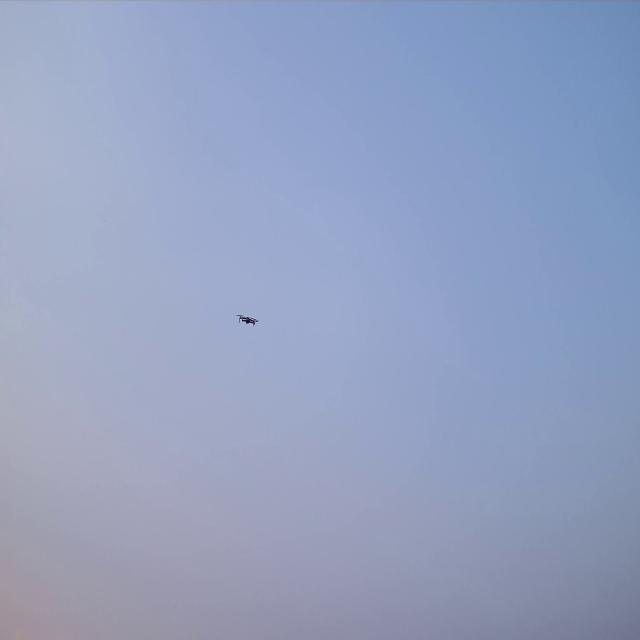UAV: (235, 314, 259, 328)
